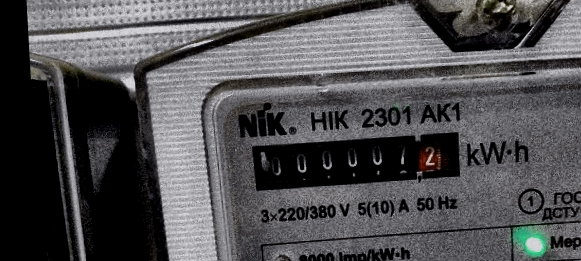0: (267, 152, 283, 177), (344, 145, 359, 169), (293, 151, 307, 174), (319, 148, 333, 171), (369, 143, 383, 166)
2: (422, 144, 436, 167)
7: (395, 141, 408, 166)
screen: (240, 121, 471, 200)
